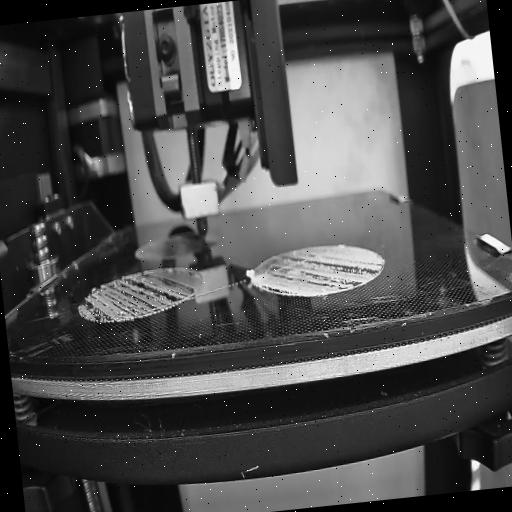under_extrusion: (262, 244, 384, 298), (78, 265, 198, 317)
